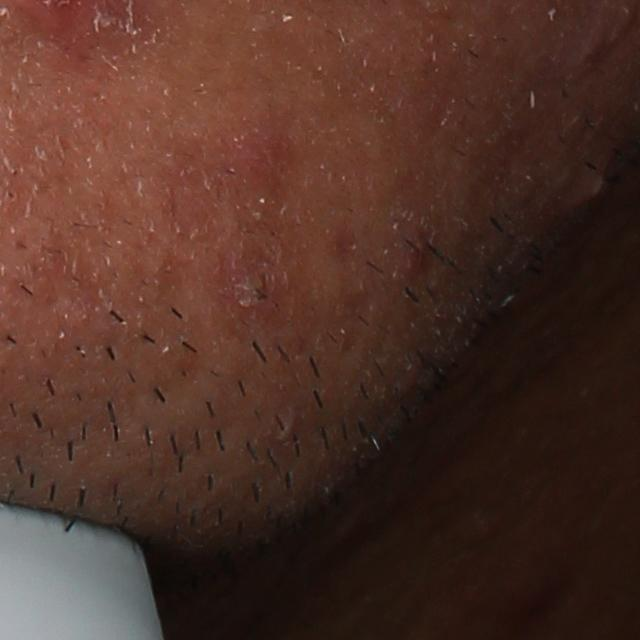papule: (213, 243, 282, 327), (218, 126, 294, 202), (406, 225, 442, 275)
